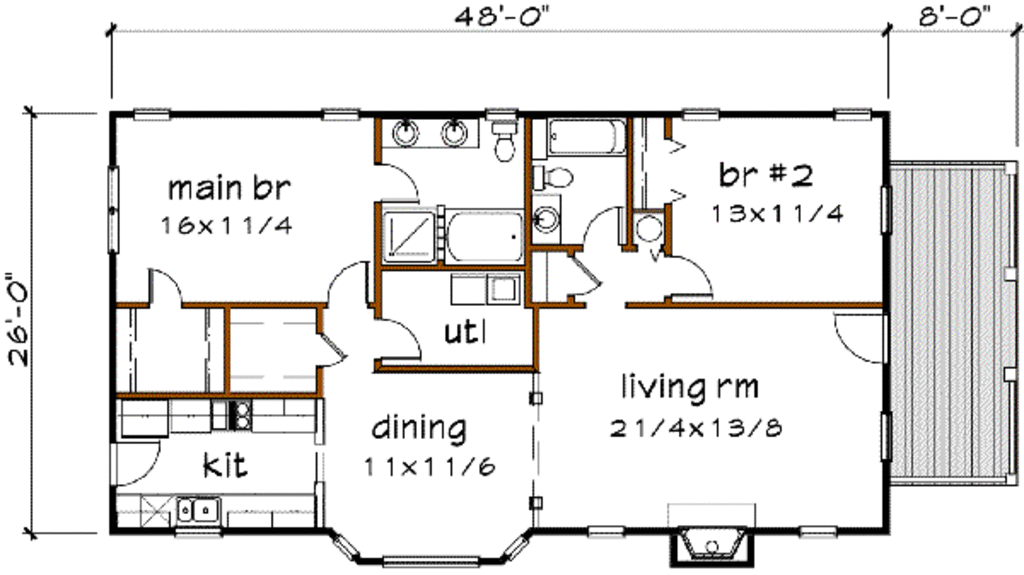door: (836, 304, 884, 368), (375, 311, 424, 365), (668, 257, 720, 306), (320, 262, 372, 310), (109, 439, 162, 483), (573, 204, 619, 251), (372, 163, 423, 205), (139, 266, 190, 307), (563, 258, 600, 304), (312, 331, 351, 367)
large_sink: (515, 155, 580, 198), (479, 109, 522, 164)
small_sink: (380, 119, 479, 150), (525, 193, 566, 250)
tub: (443, 207, 529, 268), (543, 113, 632, 153)
twin_sink: (177, 493, 220, 537)
window: (383, 552, 481, 571), (103, 160, 122, 252), (876, 408, 902, 465), (832, 100, 881, 122), (674, 104, 728, 123), (791, 523, 848, 540), (130, 103, 176, 124), (316, 105, 360, 123), (584, 522, 629, 538), (879, 184, 892, 233)
